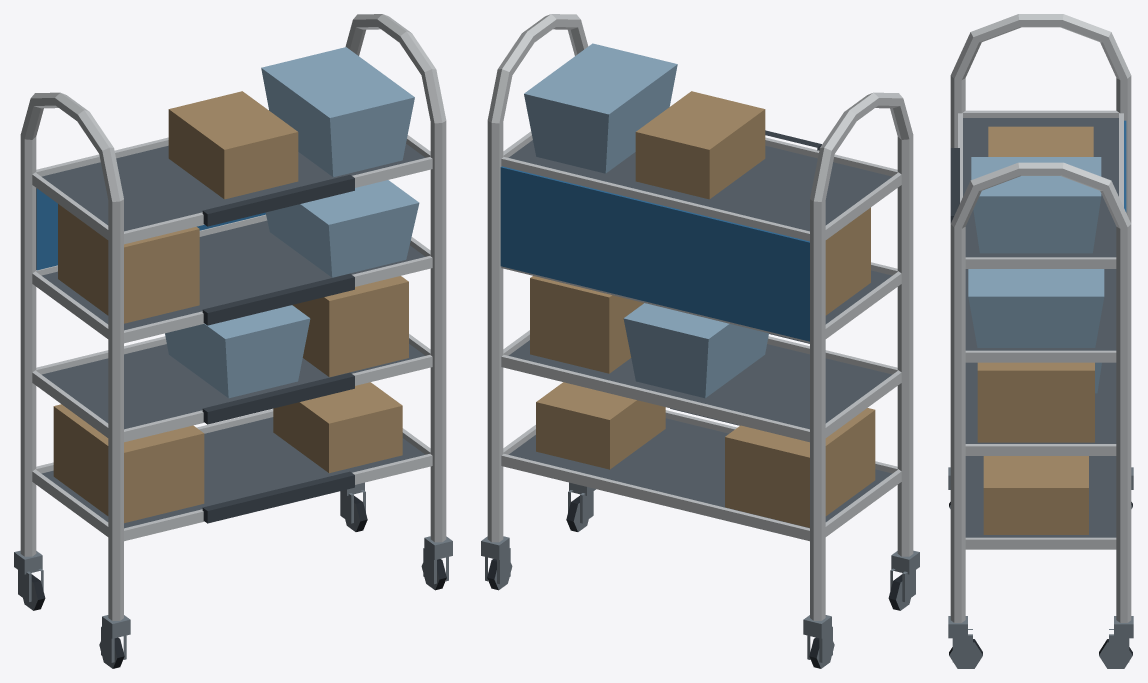
File: supply-shelving-rack-ae446a.glb
3 views of the same model, side by side, from view 1: azimuth 30°, elevation 25°; view 2: azimuth 150°, elevation 25°; view 3: azimuth 270°, elevation 25° (orthographic). The views are drawn at different scales.
Parts seen in each view (by area): view 1: supply-shelving-rack, supplies, caster-fl, caster-fr, caster-rl; view 2: supply-shelving-rack, supplies, caster-rl, caster-fl, caster-rr, caster-fr; view 3: supply-shelving-rack, supplies, caster-fr, caster-rr, wheel-fr, wheel-rr.
Part boxes in pixels (x1=…): supply-shelving-rack: x1=20, y1=14, x2=446, y2=620; supplies: x1=53, y1=47, x2=419, y2=523; caster-fl: x1=101, y1=615, x2=130, y2=662; caster-fr: x1=423, y1=536, x2=452, y2=584; caster-rl: x1=14, y1=550, x2=43, y2=601; supply-shelving-rack: x1=487, y1=14, x2=913, y2=620; supplies: x1=524, y1=43, x2=875, y2=527; caster-rl: x1=803, y1=615, x2=832, y2=662; caster-fl: x1=890, y1=550, x2=919, y2=601; caster-rr: x1=481, y1=536, x2=510, y2=584; caster-fr: x1=568, y1=482, x2=595, y2=523; supply-shelving-rack: x1=950, y1=14, x2=1131, y2=622; supplies: x1=968, y1=126, x2=1104, y2=534; caster-fr: x1=948, y1=616, x2=972, y2=662; caster-rr: x1=1109, y1=616, x2=1133, y2=662; wheel-fr: x1=949, y1=639, x2=982, y2=668; wheel-rr: x1=1099, y1=639, x2=1132, y2=668.
Bounding box in the file's own units: 1.2 × 1.8 × 0.6.
